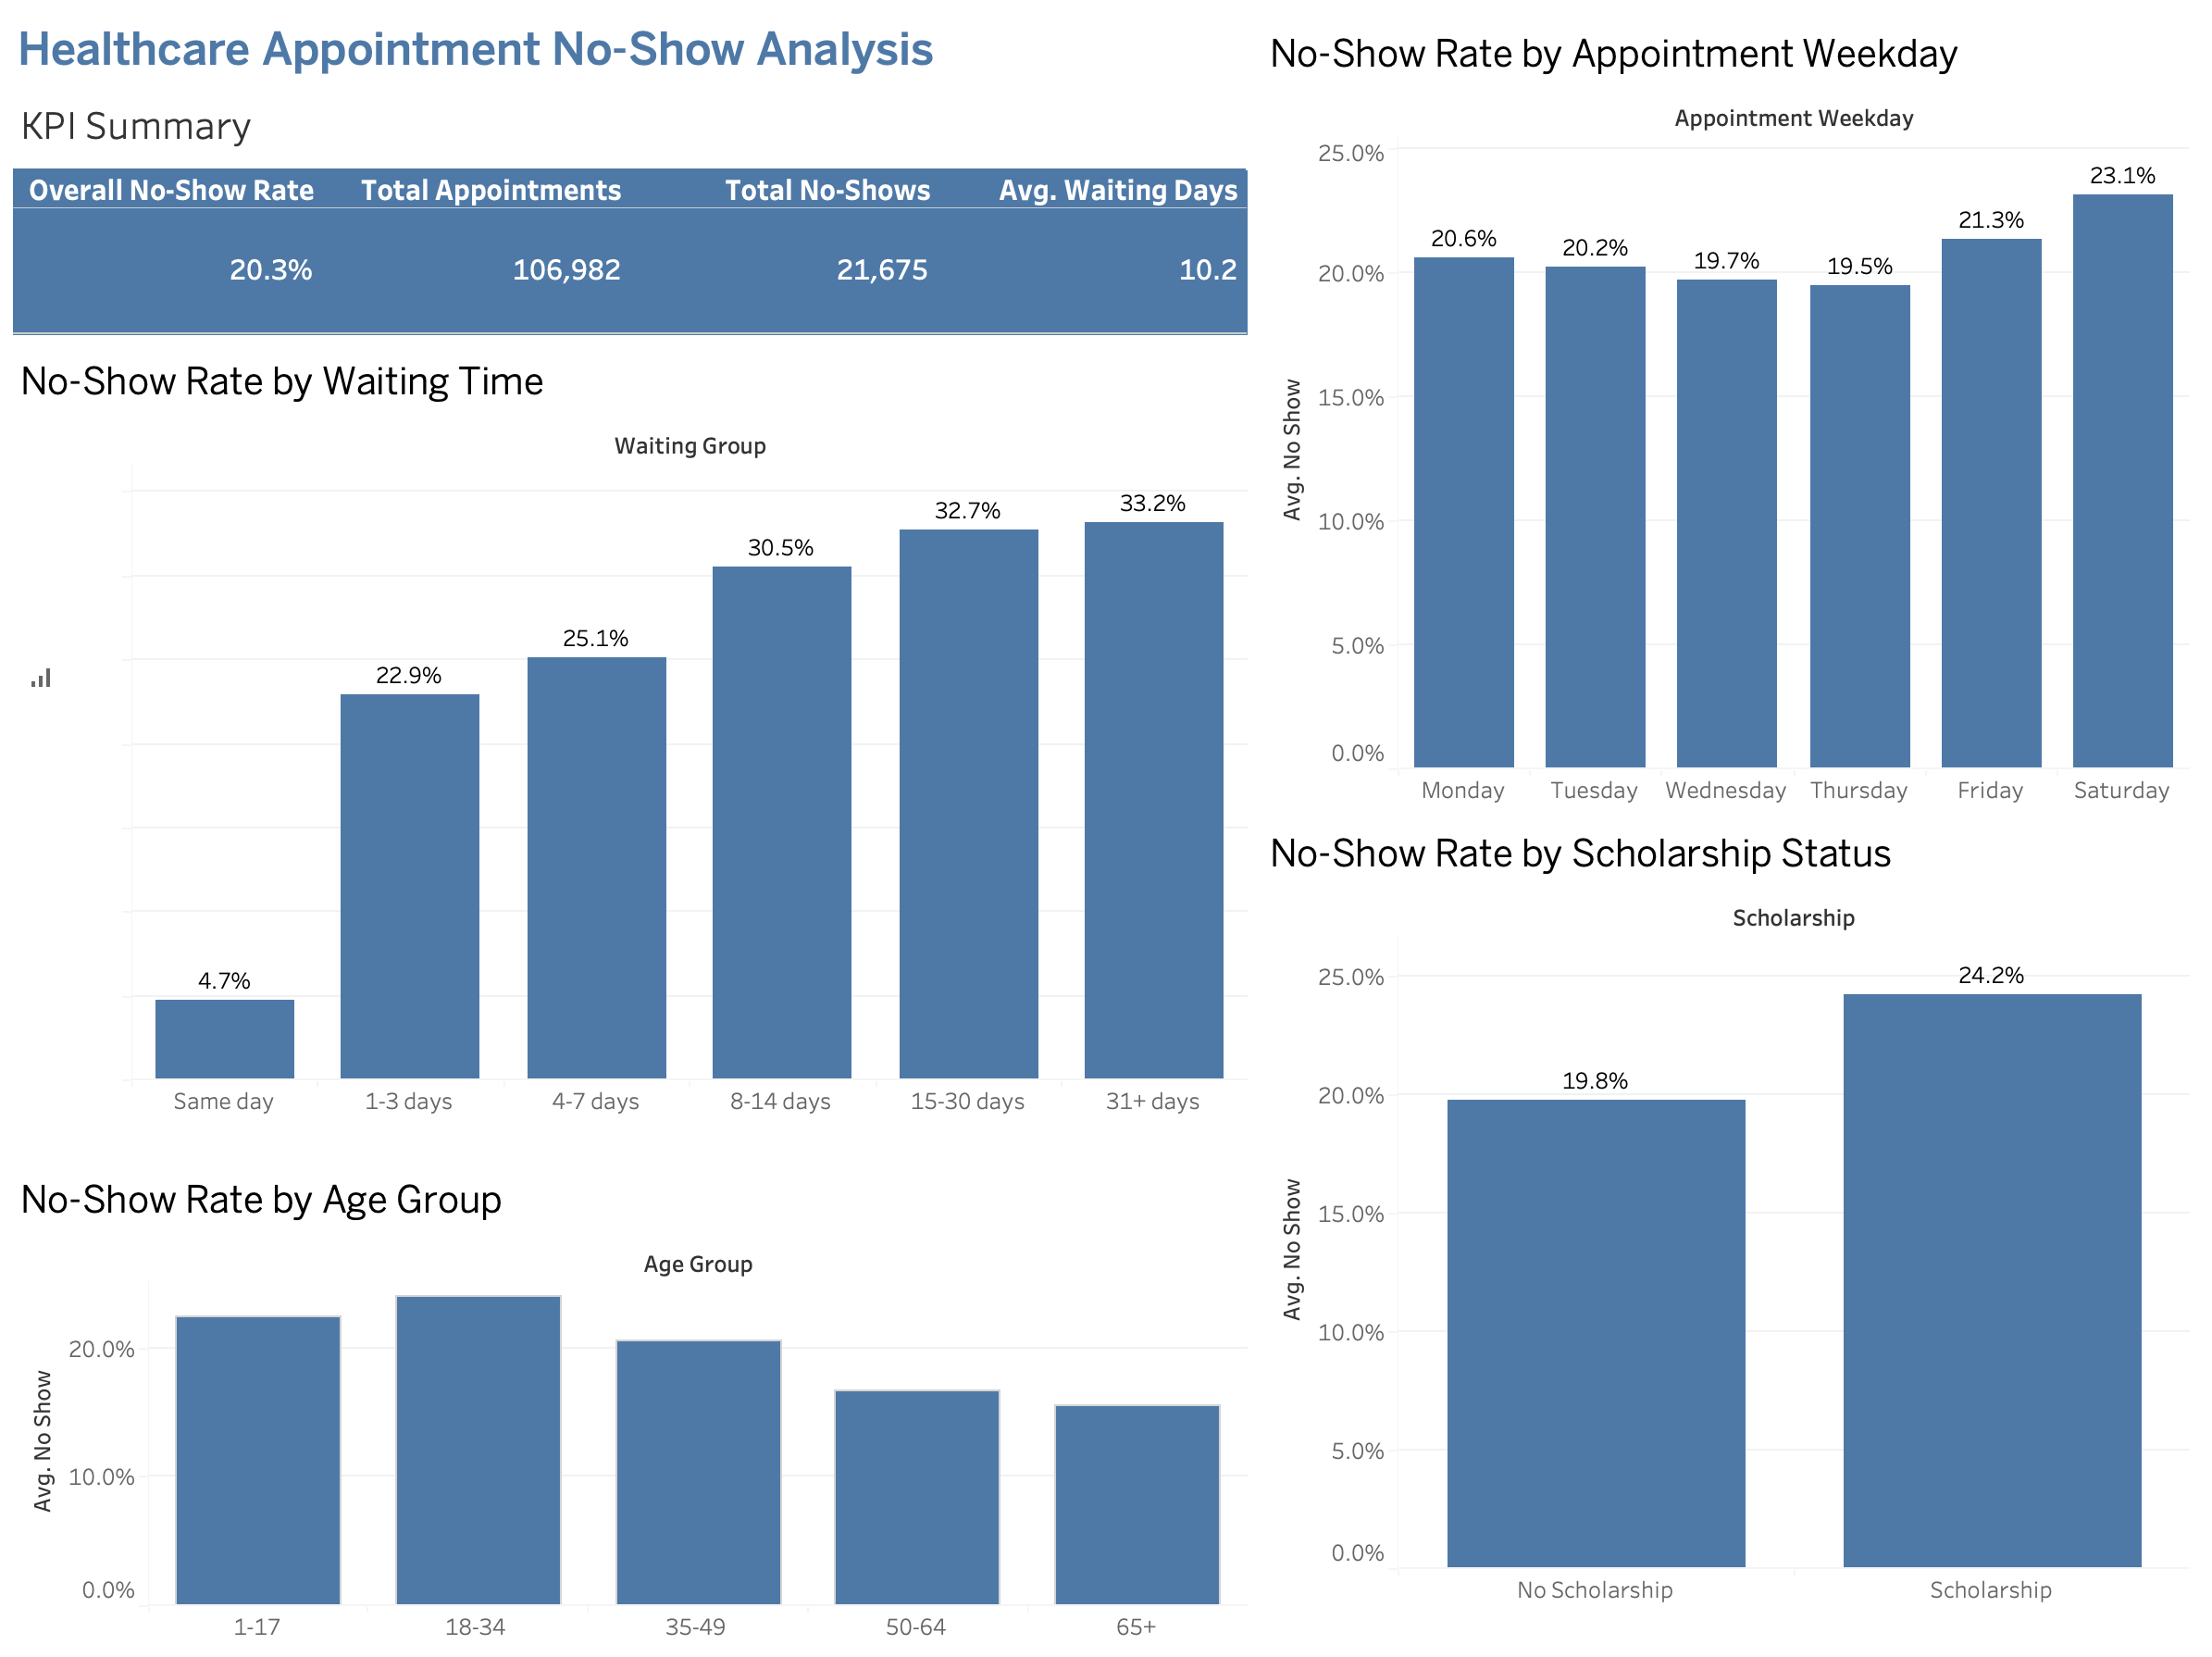

Layout of this report page (visuals, bound fields, positions):
{"tool":"tableau","page":{"name":"Dashboard 1","canvas":[1200,900],"ordinal":0},"visuals":[{"type":"title","box":[8,8,675,37]},{"type":"worksheet","title":"No-show rate by weekday","mark":"Bar","rows":["NoShow"],"cols":["AppointmentWeekday"],"box":[683,8,509,432.5]},{"type":"worksheet","title":"Sheet 8","mark":"Automatic","box":[8,45,675,140]},{"type":"worksheet","title":"no-show rate by waiting time","mark":"Bar","rows":["NoShow"],"cols":["WaitingGroup"],"box":[8,185,675,442.4]},{"type":"worksheet","title":"No-show rate by scholarship status","mark":"Automatic","rows":["NoShow"],"cols":["Scholarship"],"box":[683,440.5,509,451.5]},{"type":"worksheet","title":"No-Show Rate by Age Group","mark":"Automatic","rows":["NoShow"],"cols":["AgeGroup"],"box":[8,627.4,675,264.6]}]}

Visuals, with their boxes in screenshot pixels (x1, y1, x2, y2), scaled from the page's 1200x900 canvas onto the 2212x1657 screenshot:
title: [x1=15, y1=15, x2=1259, y2=83]
"No-show rate by weekday" worksheet (Bar marks): [x1=1259, y1=15, x2=2197, y2=811]
"Sheet 8" worksheet: [x1=15, y1=83, x2=1259, y2=341]
"no-show rate by waiting time" worksheet (Bar marks): [x1=15, y1=341, x2=1259, y2=1155]
"No-show rate by scholarship status" worksheet: [x1=1259, y1=811, x2=2197, y2=1642]
"No-Show Rate by Age Group" worksheet: [x1=15, y1=1155, x2=1259, y2=1642]
